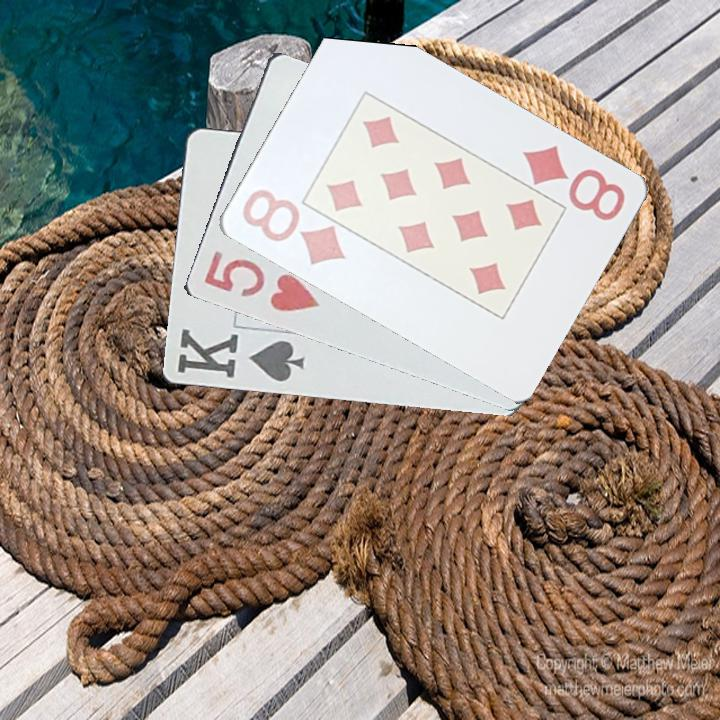5h: (200, 247, 323, 315)
8d: (237, 185, 348, 268), (518, 141, 628, 224)
Ks: (173, 325, 308, 385)
